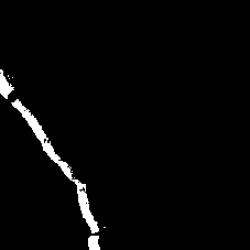crack: (13, 100, 101, 232), (2, 73, 14, 98), (88, 235, 99, 249)
